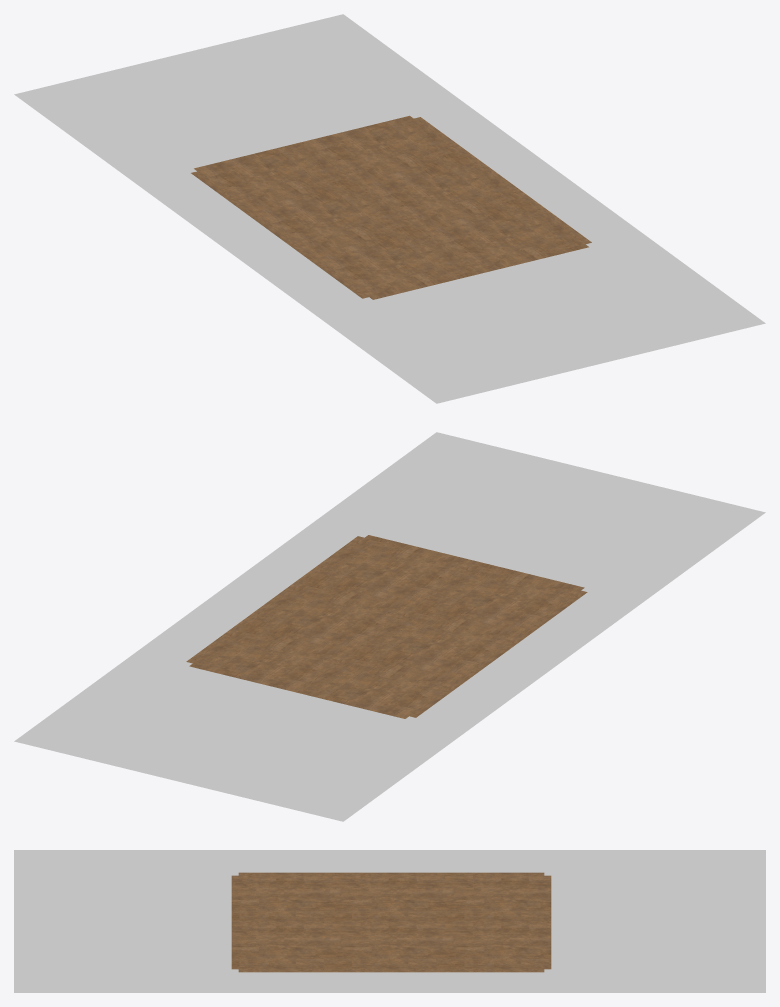
The model's file is floor.fbx.
3 renders of one model, top to bottom at view 1: azimuth 30°, elevation 25°; view 2: azimuth 150°, elevation 25°; view 3: azimuth 270°, elevation 25°, orthographic. The views are drawn at different scales.
Parts seen in each view (by area): view 1: floor; view 2: floor; view 3: floor.
Boxes of the visible parts, <box> form: floor: <box>14,14,765,403</box>; floor: <box>14,432,765,821</box>; floor: <box>14,850,765,992</box>.
Bounding box in the file's own units: 4870 × 0.00176 × 10824.
